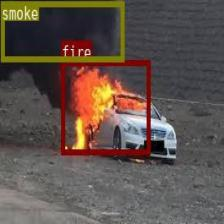fire: (60, 60, 150, 154)
smoke: (1, 0, 123, 60)
